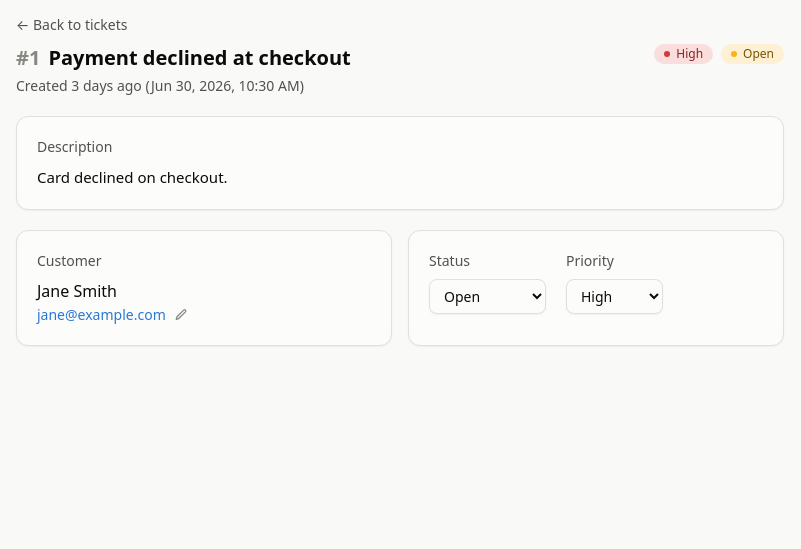
TicketDetailPage inline editing › cancels a description edit with Escape, leaving the text unchanged
Expected: the text "Card declined on checkout." is shown, [37,167,228,187]
Click the button "Card declined on checkout." at (132, 177), box [33,165,759,189]
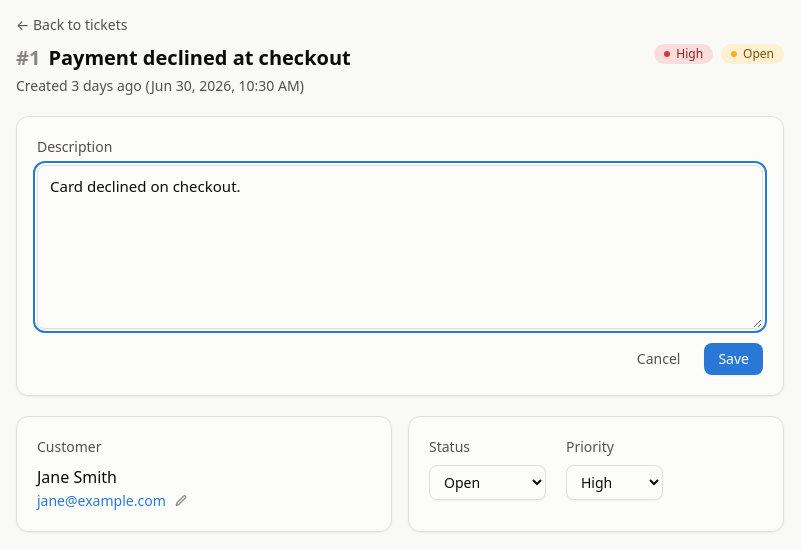
Replace the text in the text box named "Description" with "This should be discarded" at (400, 247), box [37,165,763,329]
Then press Escape
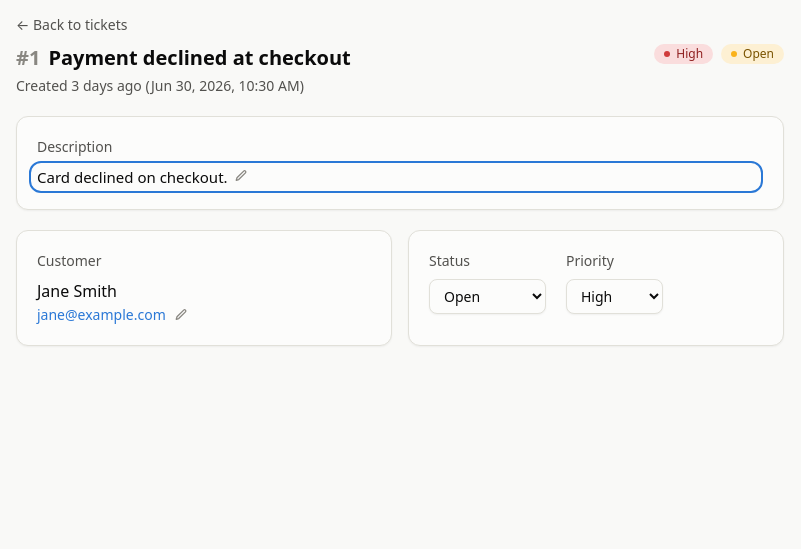
Expected: the text "Card declined on checkout." is shown, [37,167,228,187]
